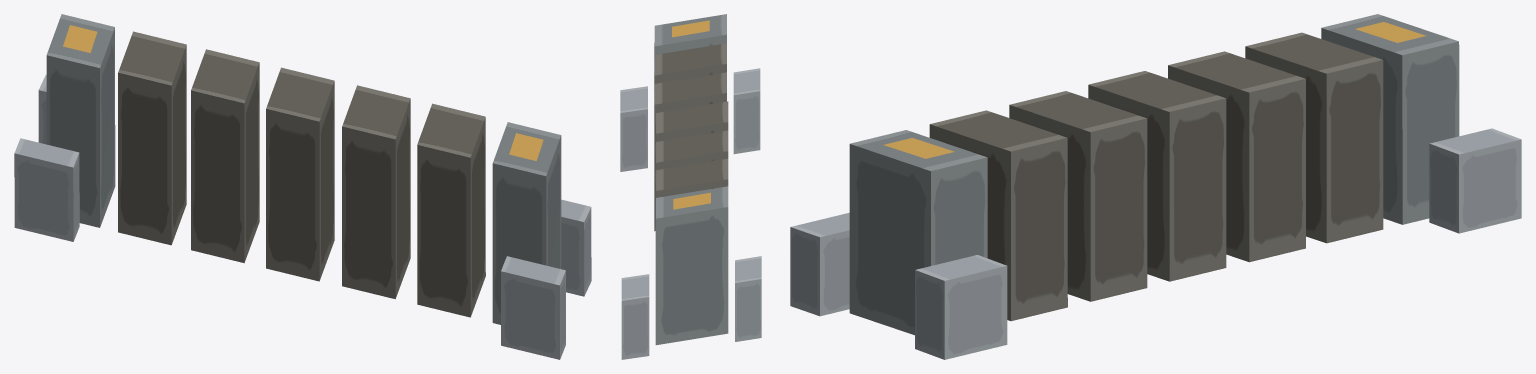
The model's file is barricade1.FBX.
The picture shows the model from 3 angles, left to right: view 1: azimuth 30°, elevation 25°; view 2: azimuth 150°, elevation 25°; view 3: azimuth 270°, elevation 25°; orthographic projection. The views are drawn at different scales.
Parts seen in each view (by area): view 1: playerbuilding_Barricade_lv1; view 2: playerbuilding_Barricade_lv1; view 3: playerbuilding_Barricade_lv1.
Boxes of the visible parts, bbox=[...] form: playerbuilding_Barricade_lv1: bbox=[14, 14, 591, 359]; playerbuilding_Barricade_lv1: bbox=[620, 14, 761, 359]; playerbuilding_Barricade_lv1: bbox=[790, 14, 1521, 359].
Bounding box in the file's own units: 94.16 × 38.56 × 149.
